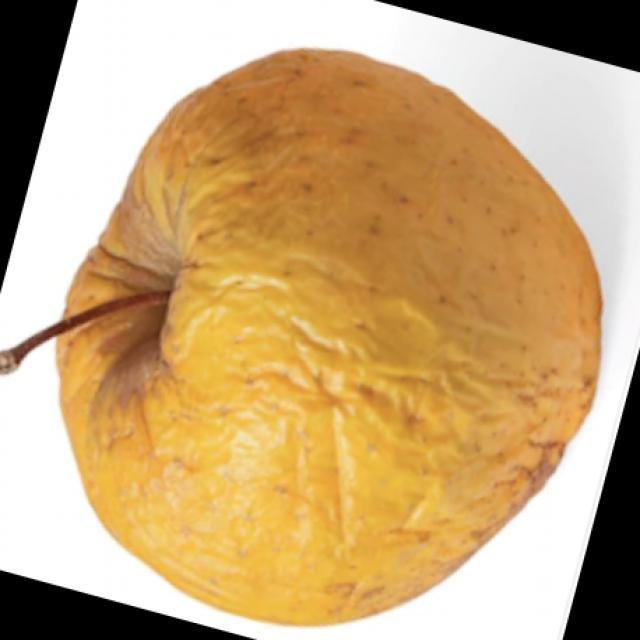Rotten: (79, 65, 594, 628)
